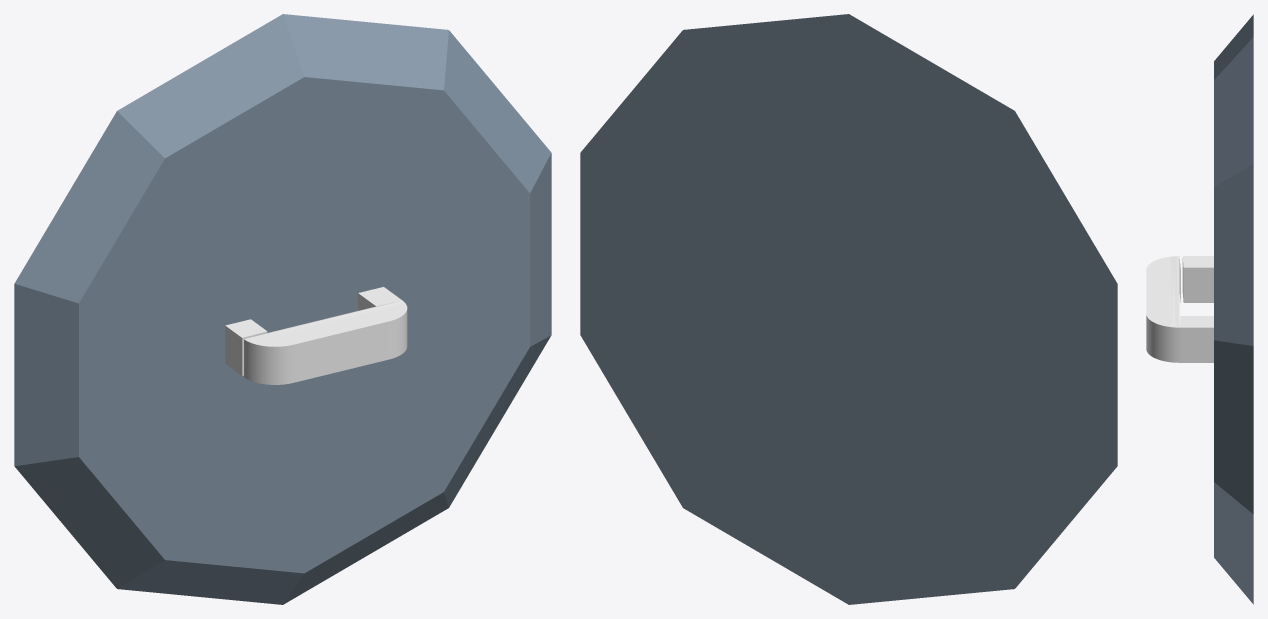
The model's file is smallLidCollider.obj.
The picture shows the model from 3 angles, left to right: view 1: azimuth 30°, elevation 25°; view 2: azimuth 150°, elevation 25°; view 3: azimuth 270°, elevation 25°; orthographic projection. The views are drawn at different scales.
Visible parts, largest first — view 1: lidCollider, lidCollider.001, lidCollider.003; view 2: lidCollider; view 3: lidCollider, lidCollider.001, lidCollider.002, lidCollider.003.
Part boxes in pixels (x1,y1,x2,y2): lidCollider: (14, 14, 551, 604); lidCollider.001: (244, 300, 407, 384); lidCollider.003: (225, 319, 267, 375); lidCollider: (580, 14, 1117, 604); lidCollider: (1214, 14, 1253, 604); lidCollider.001: (1146, 256, 1180, 362); lidCollider.002: (1179, 316, 1213, 362); lidCollider.003: (1182, 256, 1213, 302).
Bounding box in the file's own units: 0.1493 × 0.157 × 0.0281.
